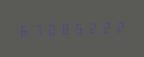eight: (59, 20, 72, 36)
five: (73, 19, 86, 36)
seven: (31, 21, 44, 37)
six: (17, 21, 30, 38)
two: (87, 19, 100, 36), (101, 18, 114, 35), (115, 18, 128, 35)
zero: (45, 20, 58, 37)
